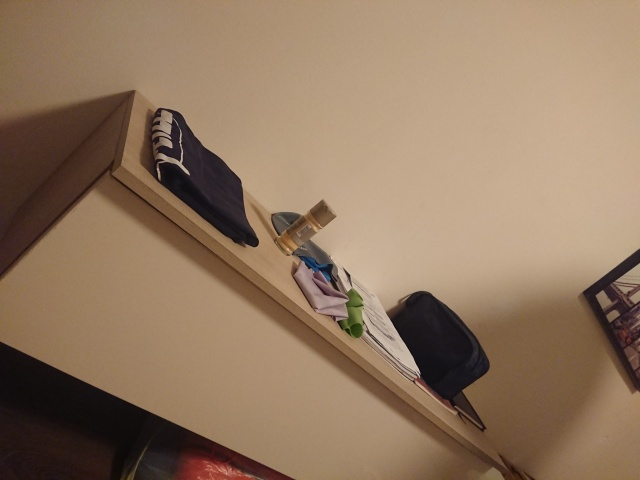Kotanyi Garlic Granules 70g: (272, 198, 338, 258)
